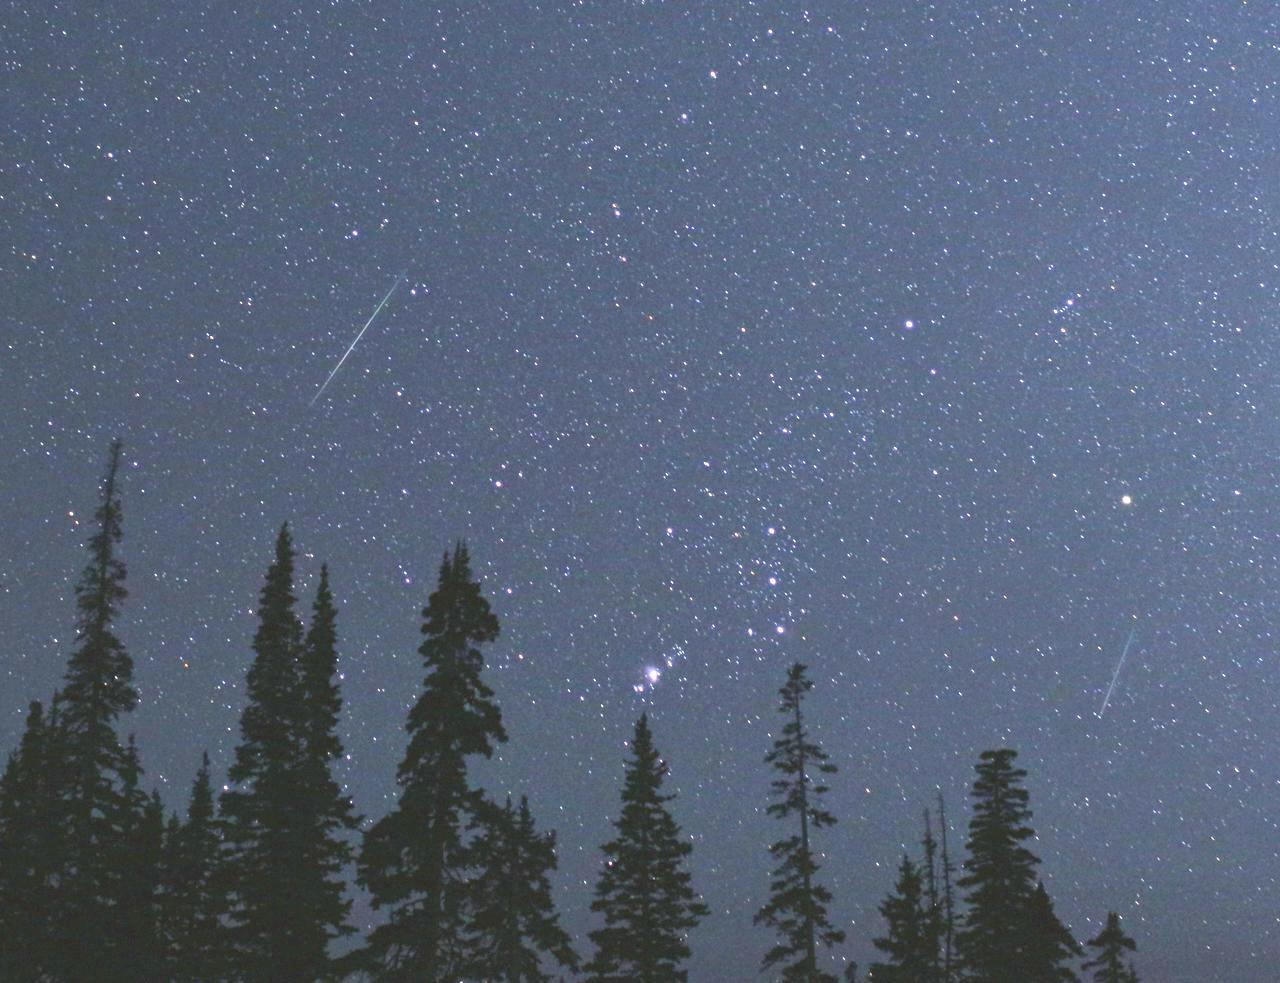meteorite: (1049, 597, 1188, 715), (300, 269, 408, 415)
